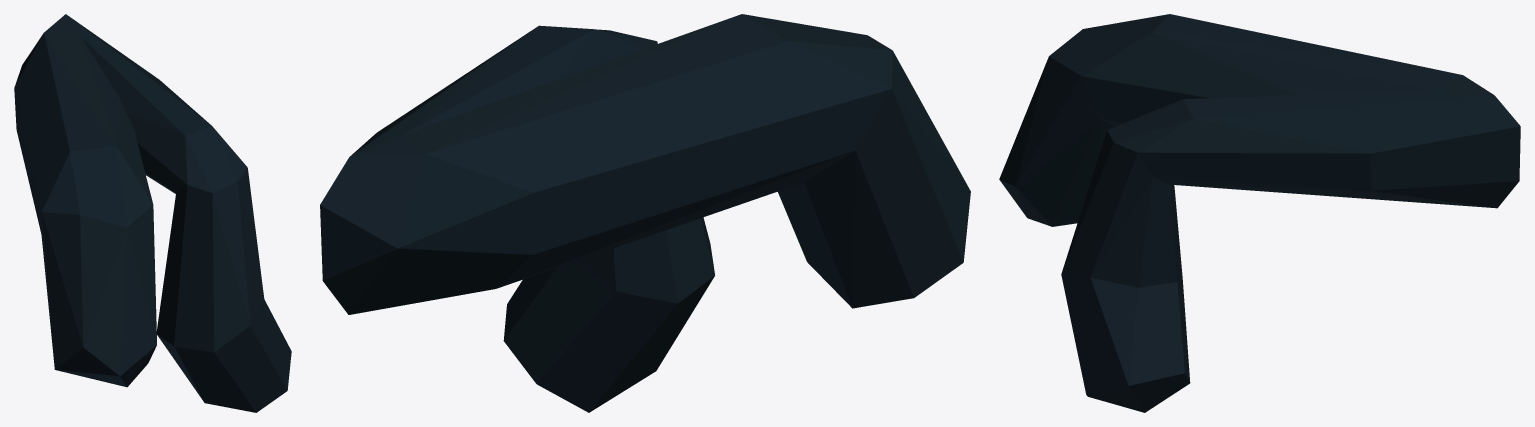
File: VentVines.glb
3 renders of one model, left to right at view 1: azimuth 30°, elevation 25°; view 2: azimuth 150°, elevation 25°; view 3: azimuth 270°, elevation 25°, orthographic. The views are drawn at different scales.
Parts seen in each view (by area): view 1: Plane; view 2: Plane; view 3: Plane.
Boxes of the visible parts, left/top/right/bottom form: Plane: left=14, top=14, right=291, bottom=412; Plane: left=320, top=14, right=970, bottom=412; Plane: left=999, top=14, right=1520, bottom=412.
Size of the model in its own units: 0.1626 by 0.1631 by 0.2466.
Materials: 1 (1 with a texture image).
